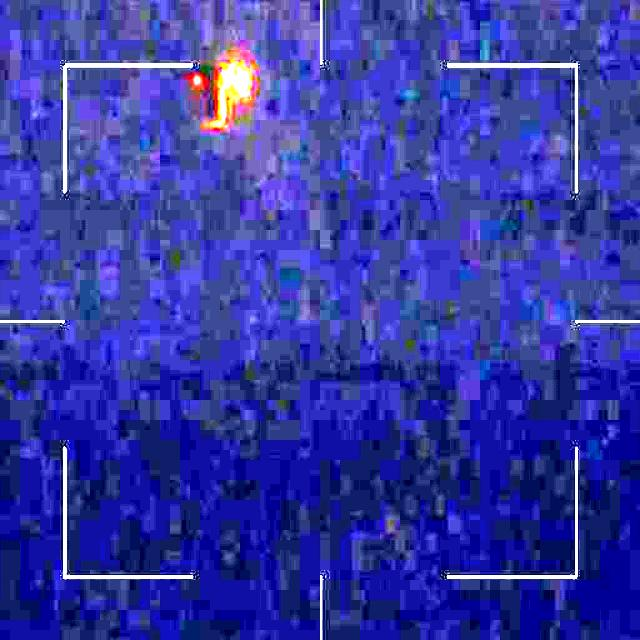bird: (184, 58, 264, 148)
